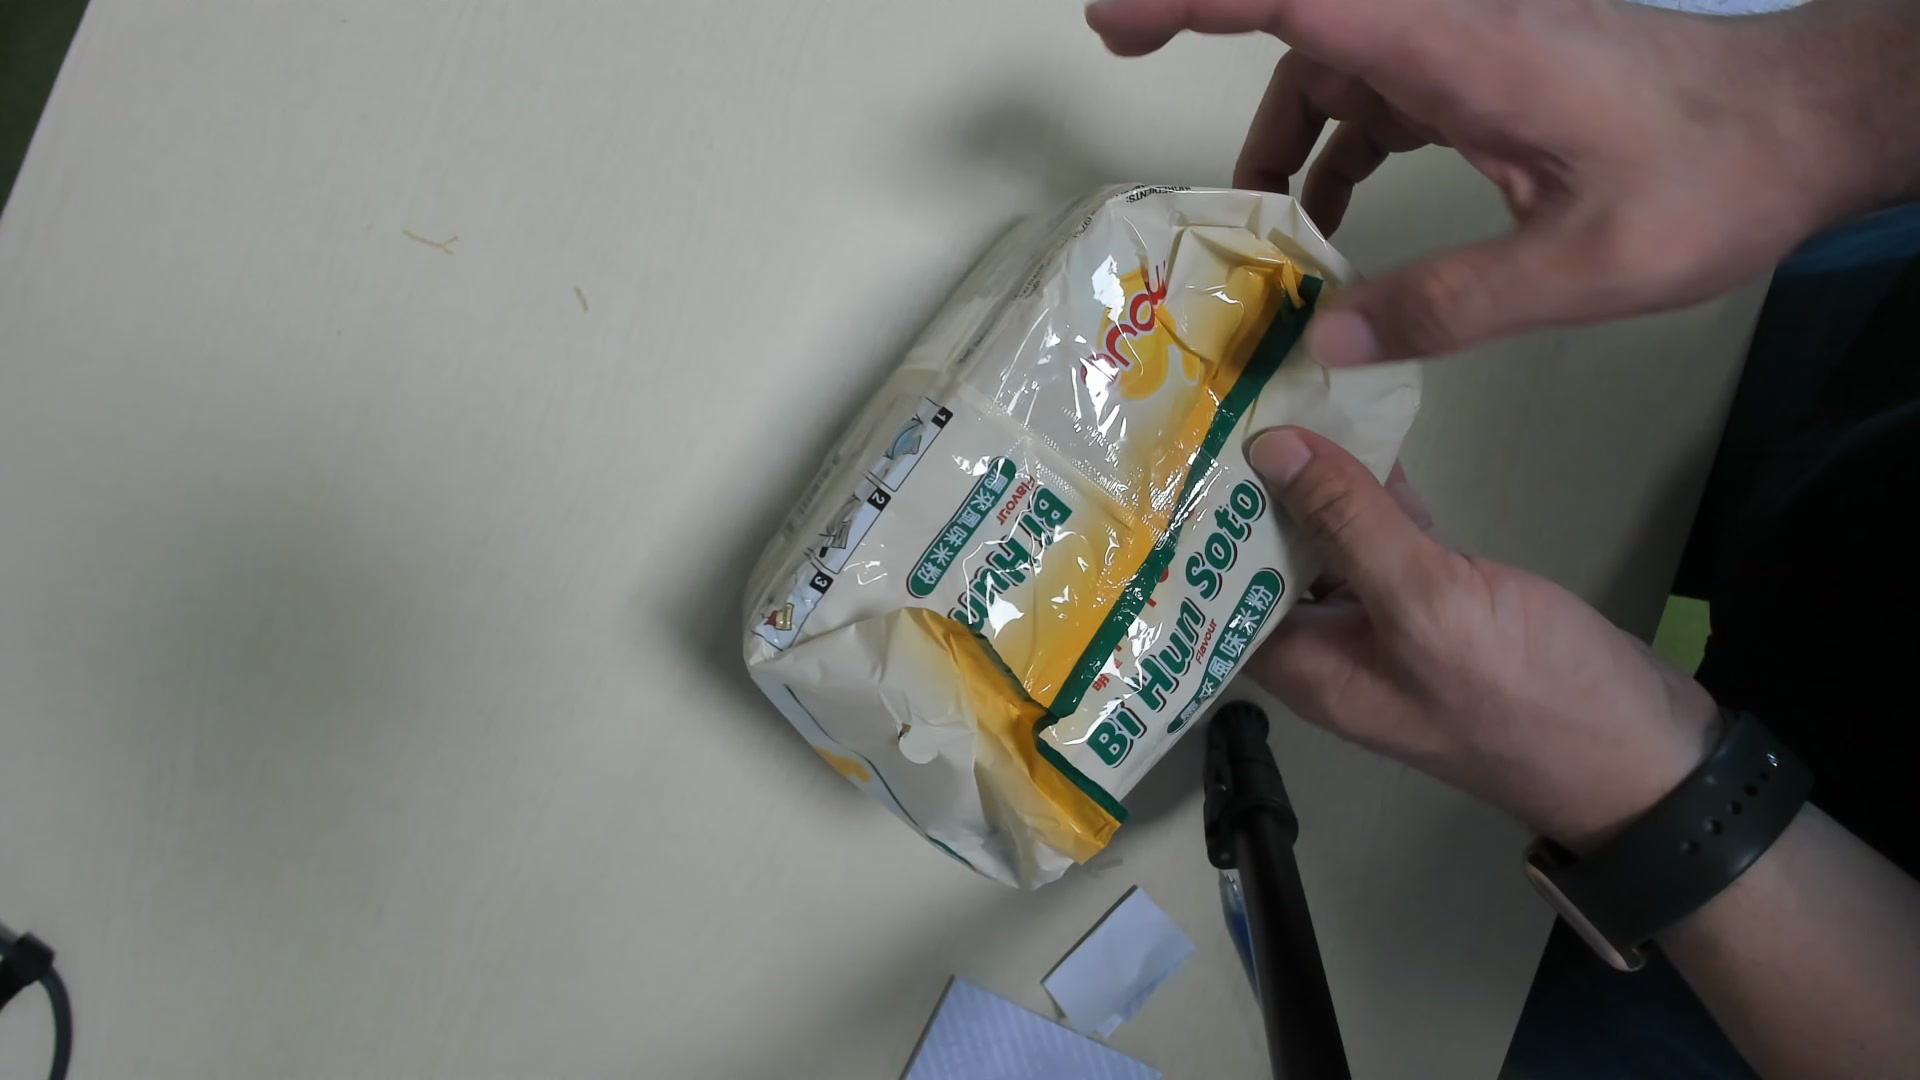OtherNoodles_400-499g_Halal_NonHealthy: (738, 186, 1419, 893)
